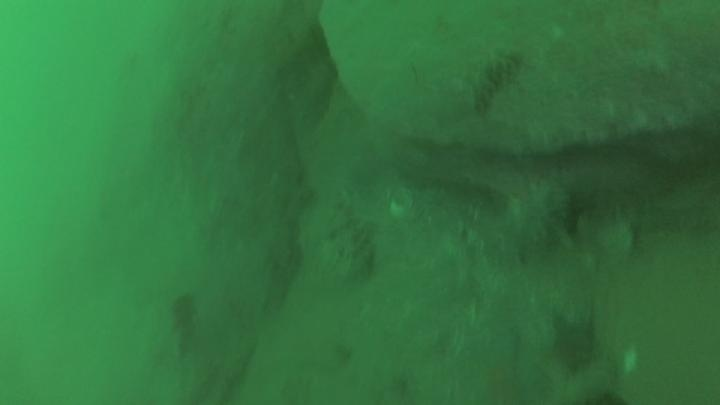holothurian: (321, 189, 381, 285), (465, 45, 523, 116)
starfish: (546, 308, 602, 377)
